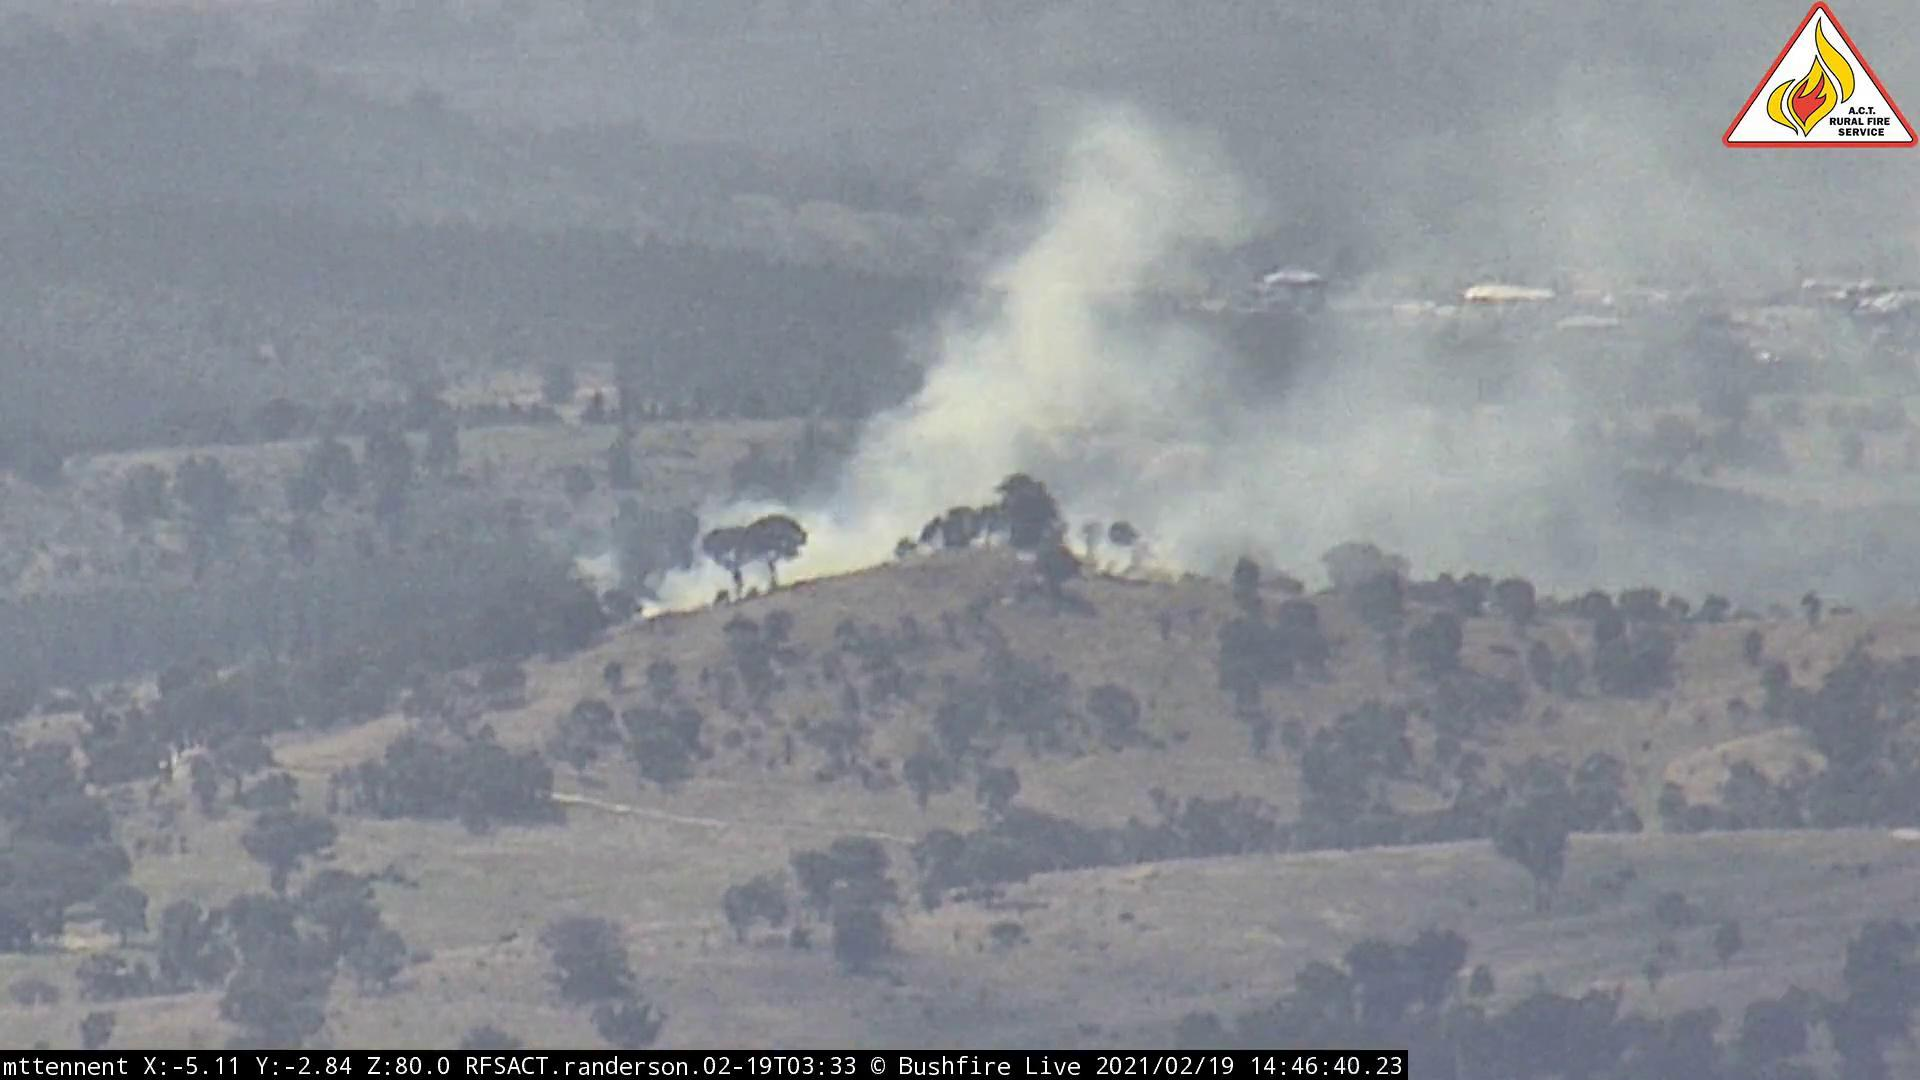Smoke: (629, 80, 1706, 636)
